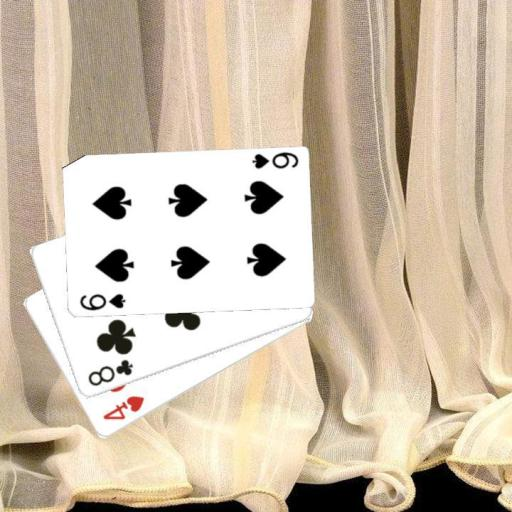4H: (100, 393, 146, 423)
6S: (76, 291, 127, 312), (249, 150, 299, 171)
8C: (85, 357, 135, 389)
